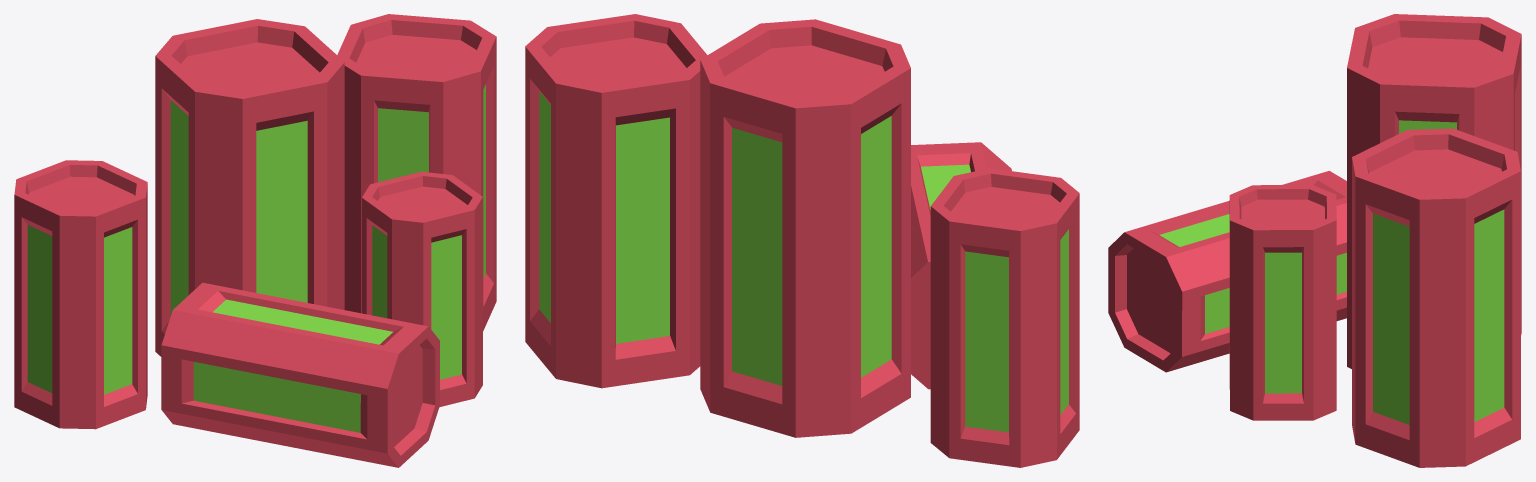
The model's file is barells2.fbx.
3 views of the same model, side by side, from view 1: azimuth 30°, elevation 25°; view 2: azimuth 150°, elevation 25°; view 3: azimuth 270°, elevation 25° (orthographic). The views are drawn at different scales.
Parts seen in each view (by area): view 1: Cube.001; view 2: Cube.001; view 3: Cube.001.
Part boxes in pixels (<box>): Cube.001: <box>14,14,496,467</box>; Cube.001: <box>525,14,1079,467</box>; Cube.001: <box>1108,14,1521,467</box>.
Bounding box in the file's own units: 266 × 160 × 200.
